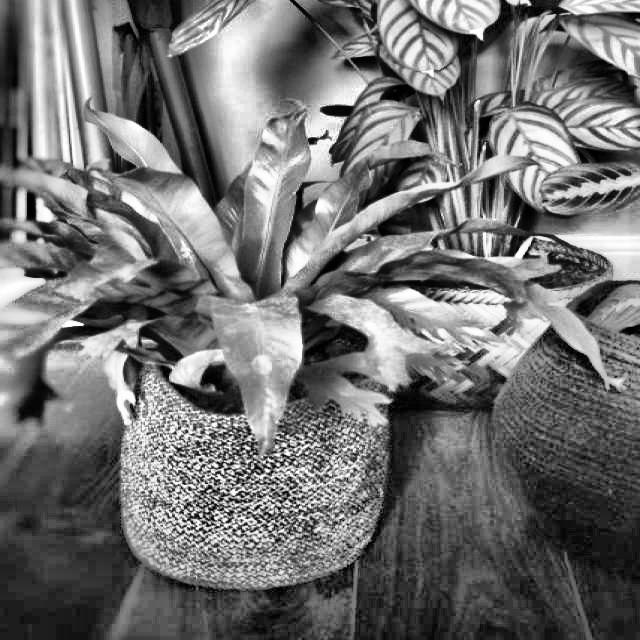plants: (16, 127, 412, 565), (318, 0, 632, 366)
